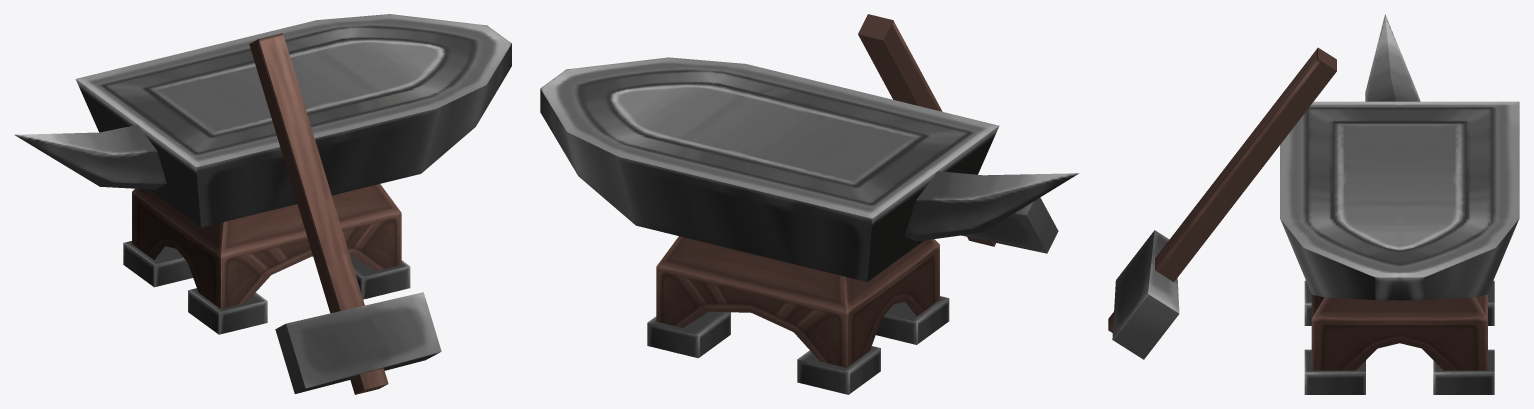
Rendered from zhucheng_tiejiangdatie.FBX.
The picture shows the model from 3 angles, left to right: view 1: azimuth 30°, elevation 25°; view 2: azimuth 150°, elevation 25°; view 3: azimuth 270°, elevation 25°; orthographic projection. The views are drawn at different scales.
Parts seen in each view (by area): view 1: zhucheng_tiejiangdatie; view 2: zhucheng_tiejiangdatie; view 3: zhucheng_tiejiangdatie.
Boxes of the visible parts, bbox=[...] form: zhucheng_tiejiangdatie: bbox=[14, 14, 511, 394]; zhucheng_tiejiangdatie: bbox=[540, 14, 1078, 394]; zhucheng_tiejiangdatie: bbox=[1108, 14, 1519, 394].
Bounding box in the file's own units: 240 × 133 × 175.
